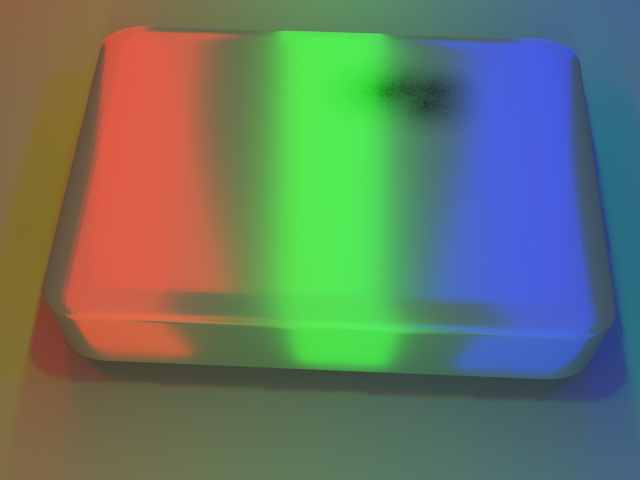stain: (308, 14, 539, 135)
